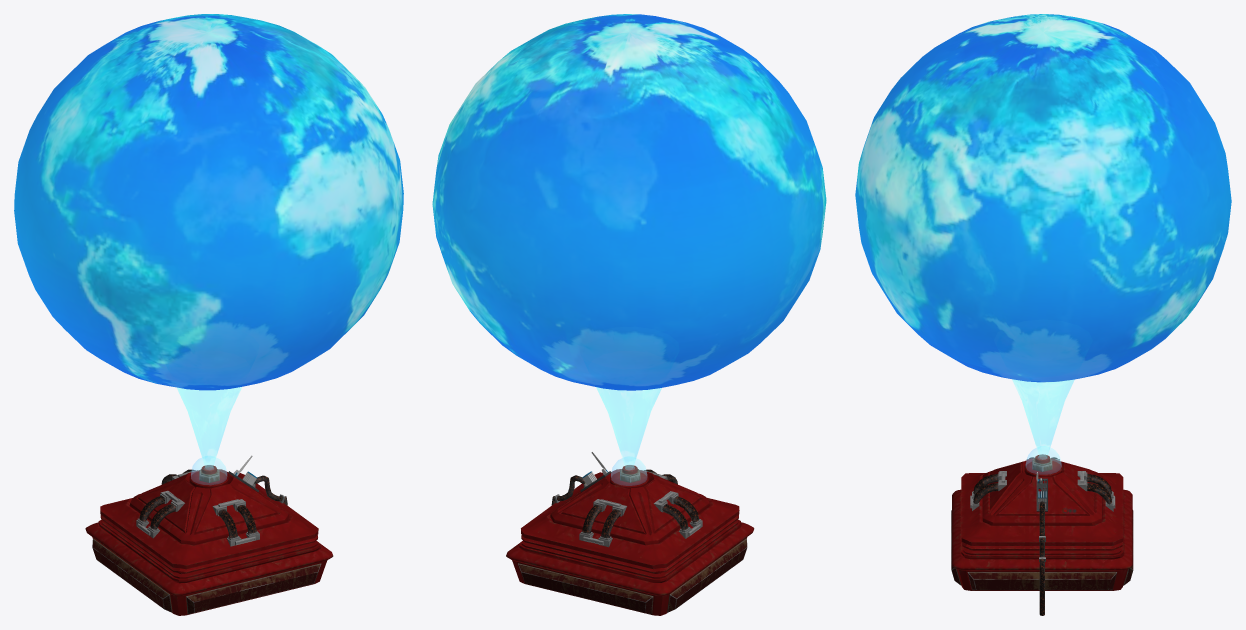
Rendered from compressed_globespin.glb.
The picture shows the model from 3 angles, left to right: view 1: azimuth 30°, elevation 25°; view 2: azimuth 150°, elevation 25°; view 3: azimuth 270°, elevation 25°; orthographic projection. The views are drawn at different scales.
Parts seen in each view (by area): view 1: Sphere001_Material #55_0, Box001_Box001_basematerial_0, Box001_Box001_heatshield_0, Cylinder008_13 - Default_0, Loft002_pipes_0, lens_glass_0, Box006_blocks_0; view 2: Sphere001_Material #55_0, Box001_Box001_basematerial_0, Box001_Box001_heatshield_0, Cylinder008_13 - Default_0, Loft002_pipes_0, lens_glass_0, Box006_blocks_0; view 3: Sphere001_Material #55_0, Box001_Box001_basematerial_0, Box001_Box001_heatshield_0, Cylinder008_13 - Default_0, Loft002_pipes_0, lens_glass_0.
Part boxes in pixels (x1,y1,x2,y2): Sphere001_Material #55_0: (14, 14, 403, 390); Box001_Box001_basematerial_0: (85, 465, 333, 615); Box001_Box001_heatshield_0: (92, 469, 321, 614); Cylinder008_13 - Default_0: (177, 387, 241, 466); Loft002_pipes_0: (139, 469, 287, 539); lens_glass_0: (191, 456, 226, 484); Box006_blocks_0: (136, 475, 285, 546); Sphere001_Material #55_0: (432, 14, 826, 390); Box001_Box001_basematerial_0: (506, 465, 754, 615); Box001_Box001_heatshield_0: (518, 469, 747, 614); Cylinder008_13 - Default_0: (596, 387, 661, 467); Loft002_pipes_0: (551, 469, 699, 538); lens_glass_0: (611, 456, 646, 485); Box006_blocks_0: (554, 475, 702, 547); Sphere001_Material #55_0: (855, 14, 1231, 382); Box001_Box001_basematerial_0: (952, 454, 1132, 590); Box001_Box001_heatshield_0: (951, 458, 1133, 590); Cylinder008_13 - Default_0: (1012, 379, 1073, 456); Loft002_pipes_0: (973, 457, 1111, 615); lens_glass_0: (1026, 446, 1061, 474).
Size of the model in its own units: 64.77 by 101 by 63.3.
Materials: 12 (11 with a texture image).
